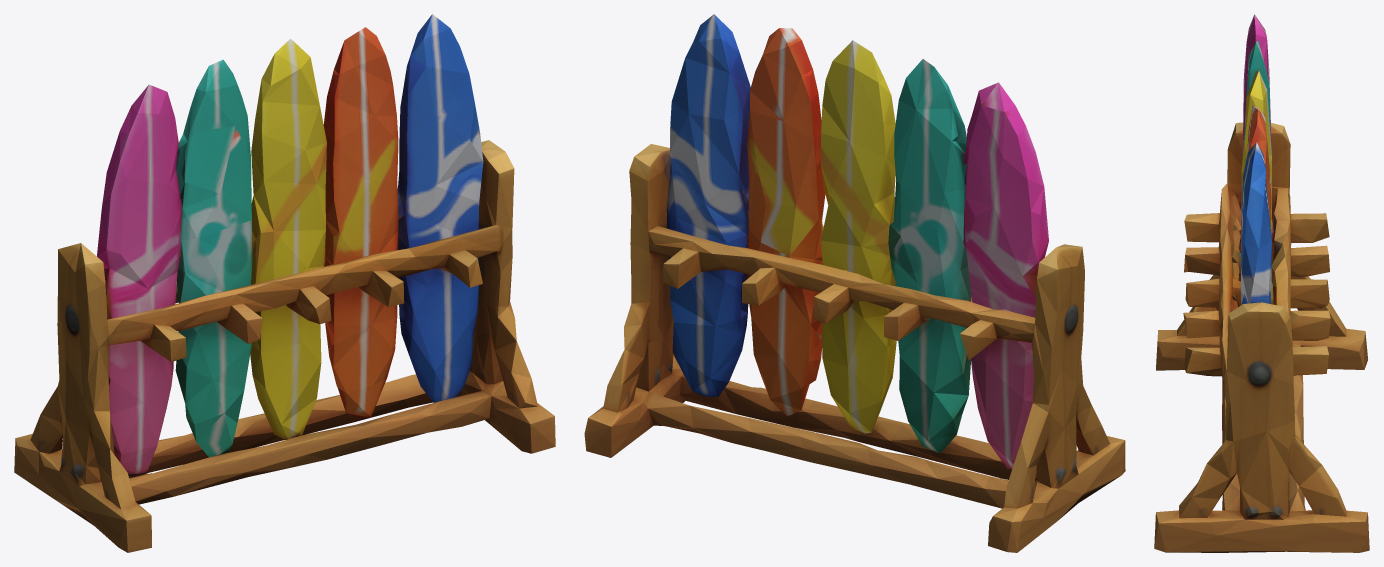
Rendered from surfboard_rack.glb.
The picture shows the model from 3 angles, left to right: view 1: azimuth 30°, elevation 25°; view 2: azimuth 150°, elevation 25°; view 3: azimuth 270°, elevation 25°; orthographic projection. The views are drawn at different scales.
Parts seen in each view (by area): view 1: geometry_0; view 2: geometry_0; view 3: geometry_0.
Part boxes in pixels (x1,y1,x2,y2): geometry_0: (14, 14, 555, 552); geometry_0: (584, 14, 1125, 552); geometry_0: (1154, 14, 1369, 552).
Size of the model in its own units: 1 by 0.9361 by 0.4664.
1 material, 1 textured.
